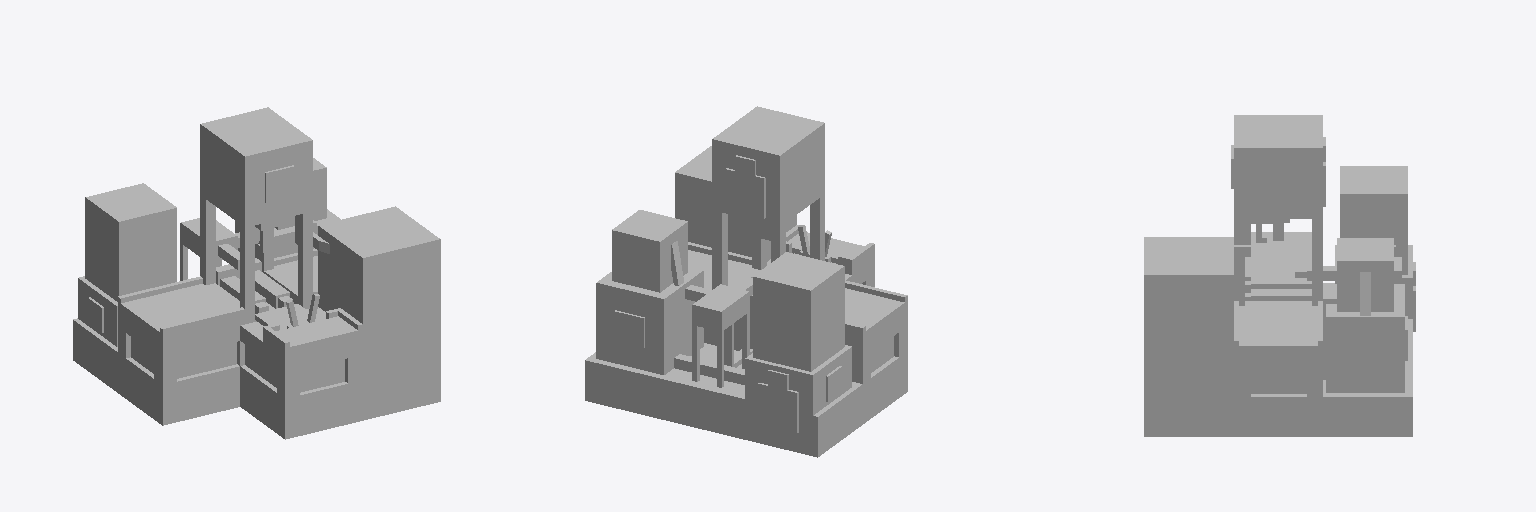
Rendered from vacuum_tube_fabricator.obj.
The picture shows the model from 3 angles: view 1: azimuth 30°, elevation 25°; view 2: azimuth 150°, elevation 25°; view 3: azimuth 270°, elevation 25°; orthographic projection.
Visible parts, largest first — view 1: cube; view 2: cube; view 3: cube.
Boxes of the visible parts, <box> form: cube: <box>73,107,440,439</box>; cube: <box>585,106,907,457</box>; cube: <box>1144,115,1415,436</box>.
Size of the model in its own units: 3 by 3.06 by 3.03.